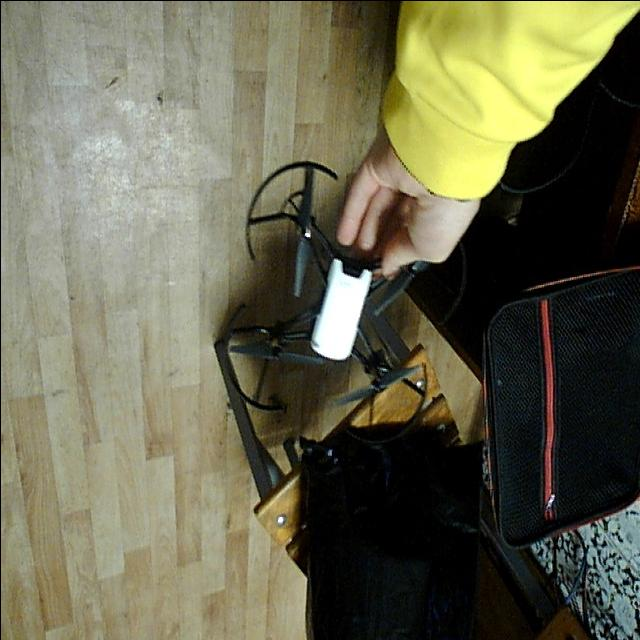drone: (218, 158, 446, 444)
